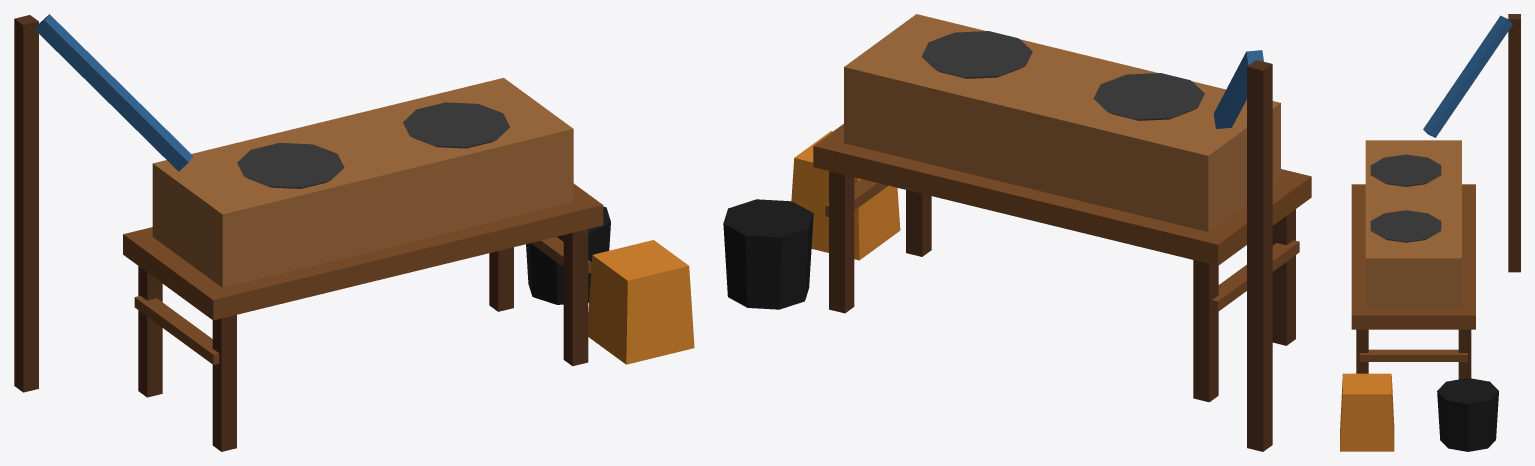
File: Mining_PanningStation.fbx
3 renders of one model, left to right at view 1: azimuth 30°, elevation 25°; view 2: azimuth 150°, elevation 25°; view 3: azimuth 270°, elevation 25°, orthographic. The views are drawn at different scales.
Parts seen in each view (by area): view 1: Mining_PanningStation; view 2: Mining_PanningStation; view 3: Mining_PanningStation.
Part boxes in pixels (<box>): Mining_PanningStation: <box>14,14,694,451</box>; Mining_PanningStation: <box>723,14,1311,451</box>; Mining_PanningStation: <box>1340,14,1520,451</box>.
Bounding box in the file's own units: 2.84 × 1.83 × 1.16.
